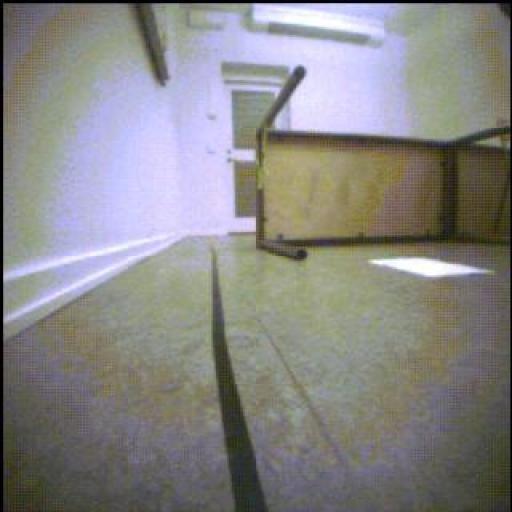Pad: (363, 257, 484, 285)
